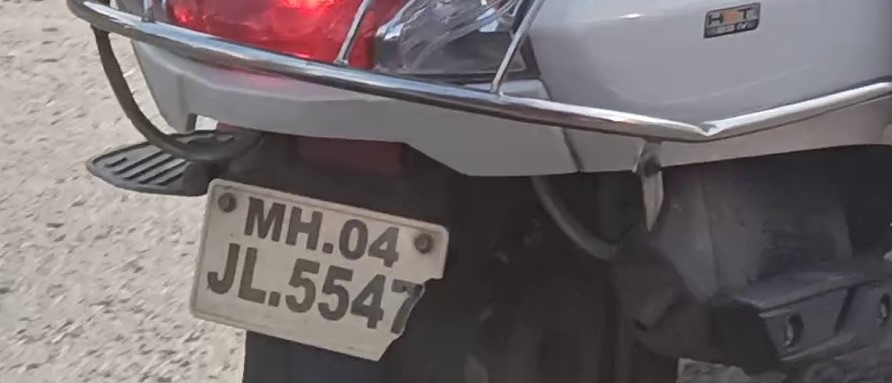MH04JL5547: (194, 185, 442, 358)
